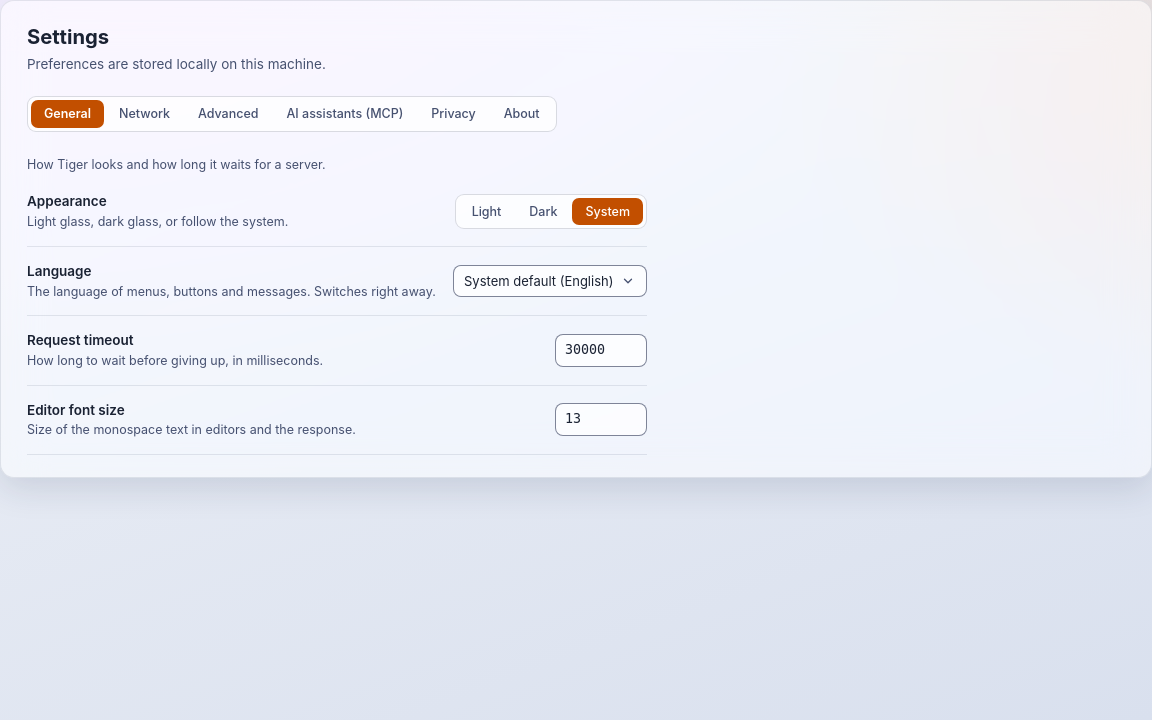
Test: SettingsView extras › numeric settings commit on blur or Enter, clamped to their bounds › clamps to the minimum on Enter and shows the stored value
The width and height of the screenshot is (1152, 720).
Replace the text in the number field named "Request timeout (ms)" with "5" at (601, 350), box [555,334,647,367]
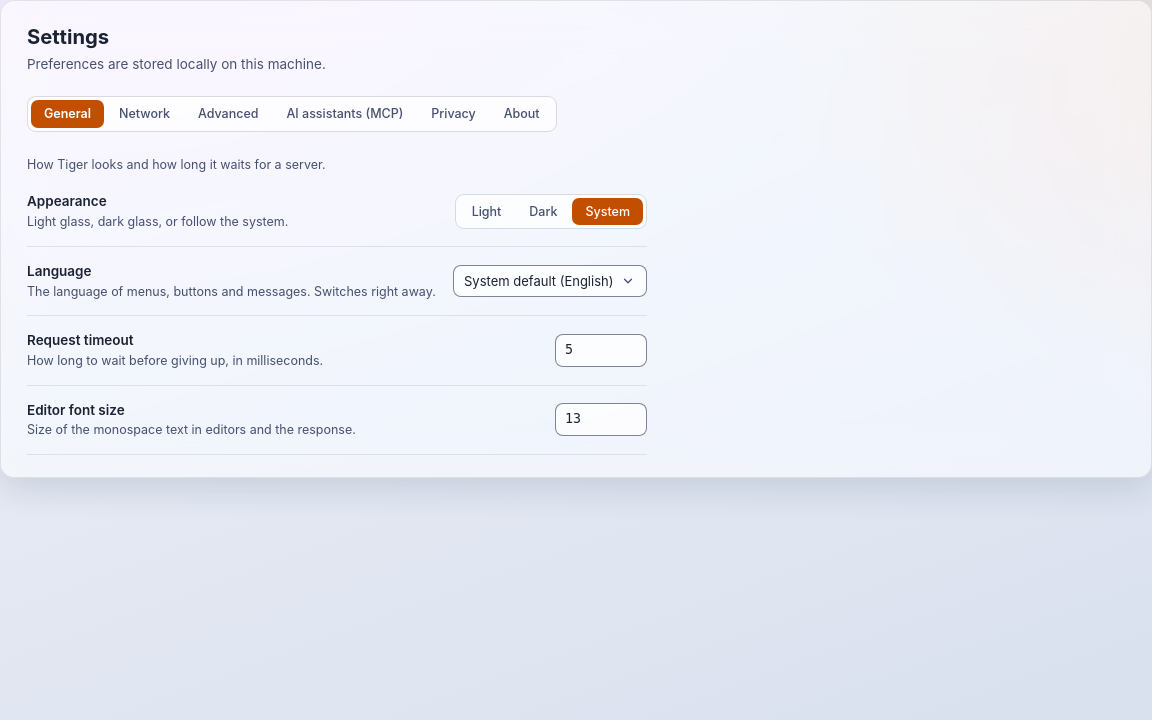
Press Enter in the number field named "Request timeout (ms)", box [555,334,647,367]
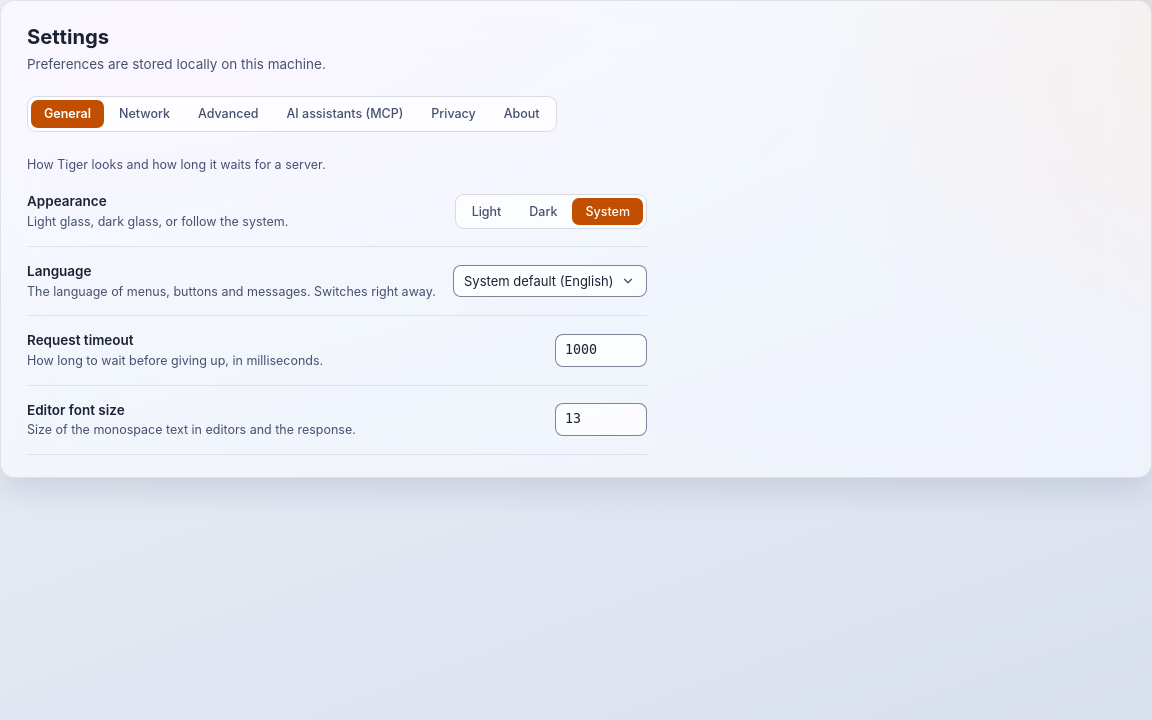
Now the number field named "Request timeout (ms)" holds "1000", box [555,334,647,367]
